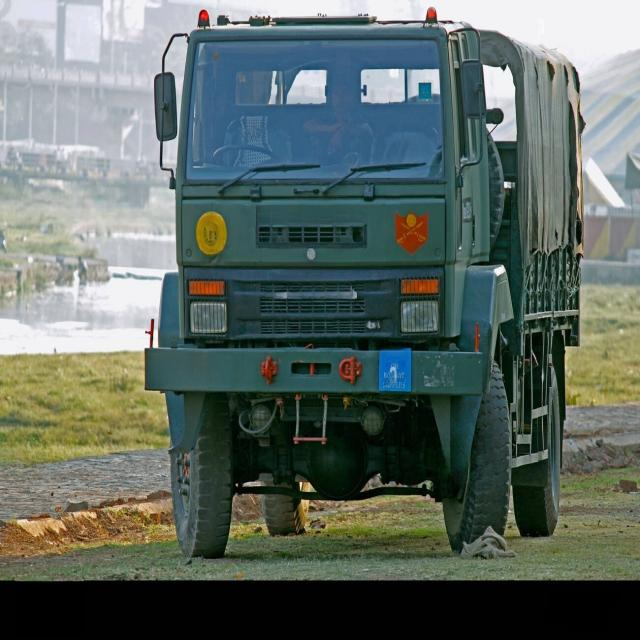truck: (145, 10, 584, 558)
